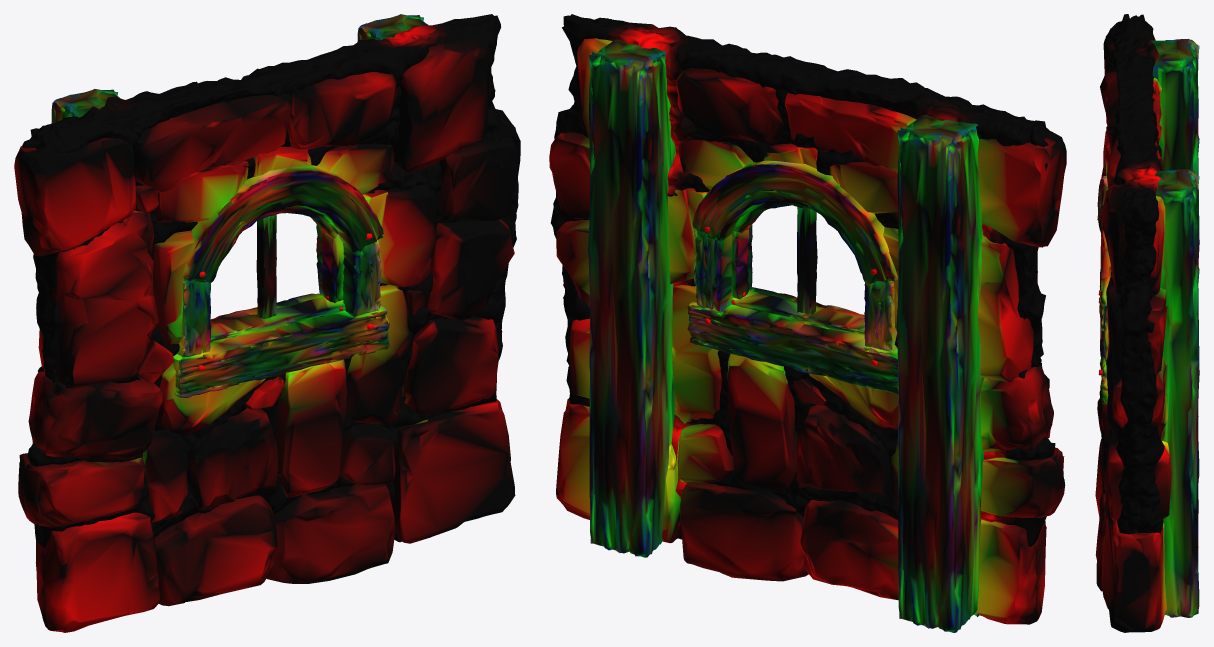
File: SM_Stone_WallWindow_Arc.fbx
3 views of the same model, side by side, from view 1: azimuth 30°, elevation 25°; view 2: azimuth 150°, elevation 25°; view 3: azimuth 270°, elevation 25° (orthographic). The views are drawn at different scales.
Parts seen in each view (by area): view 1: SM_Stone_WallWindow_Arc_LOD0; view 2: SM_Stone_WallWindow_Arc_LOD0; view 3: SM_Stone_WallWindow_Arc_LOD0.
Part boxes in pixels (x1,y1,x2,y2): SM_Stone_WallWindow_Arc_LOD0: (14,14,520,632); SM_Stone_WallWindow_Arc_LOD0: (549,14,1066,632); SM_Stone_WallWindow_Arc_LOD0: (1095,14,1199,632).
Bounding box in the file's own units: 326 × 67.45 × 321.
